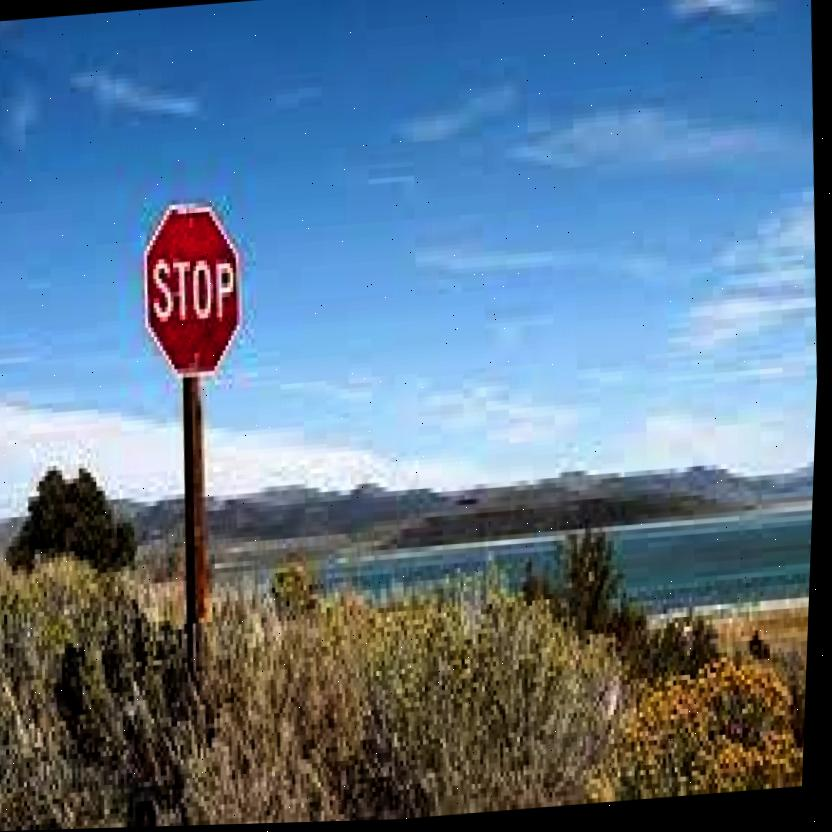Pole: (176, 381, 223, 698)
Sign: (140, 200, 250, 385)
